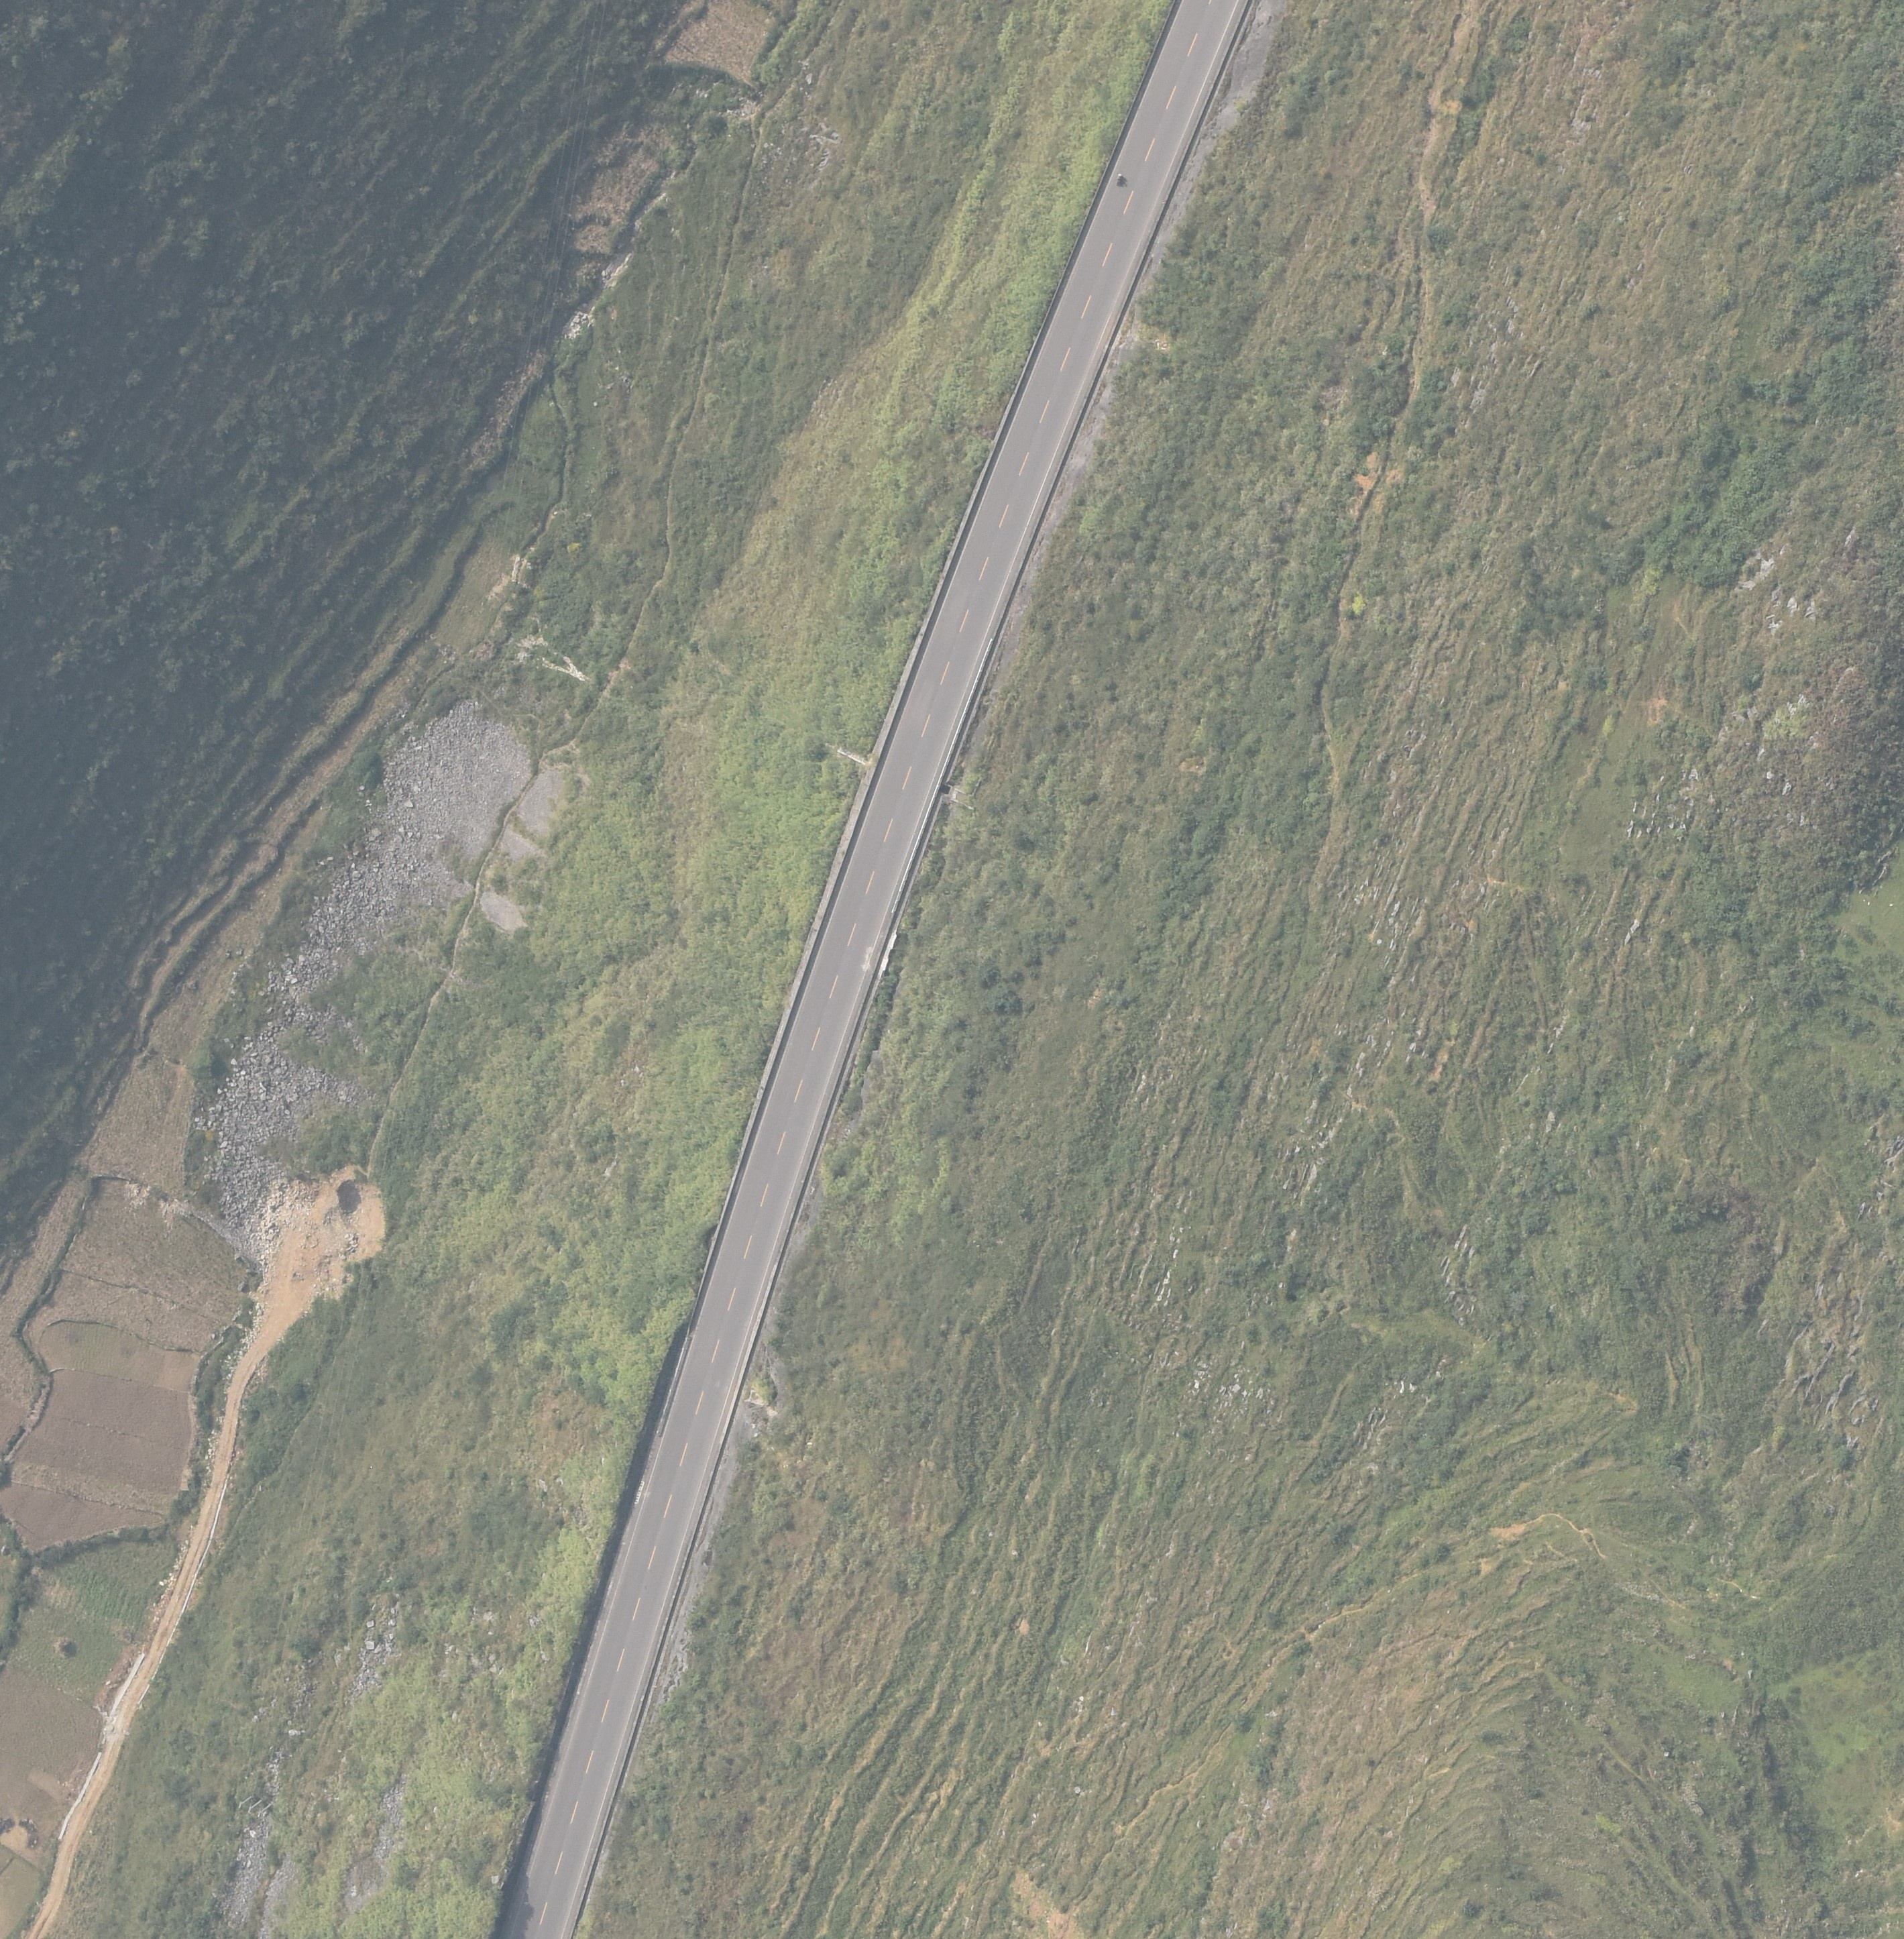quarry: (202, 695, 565, 1364)
